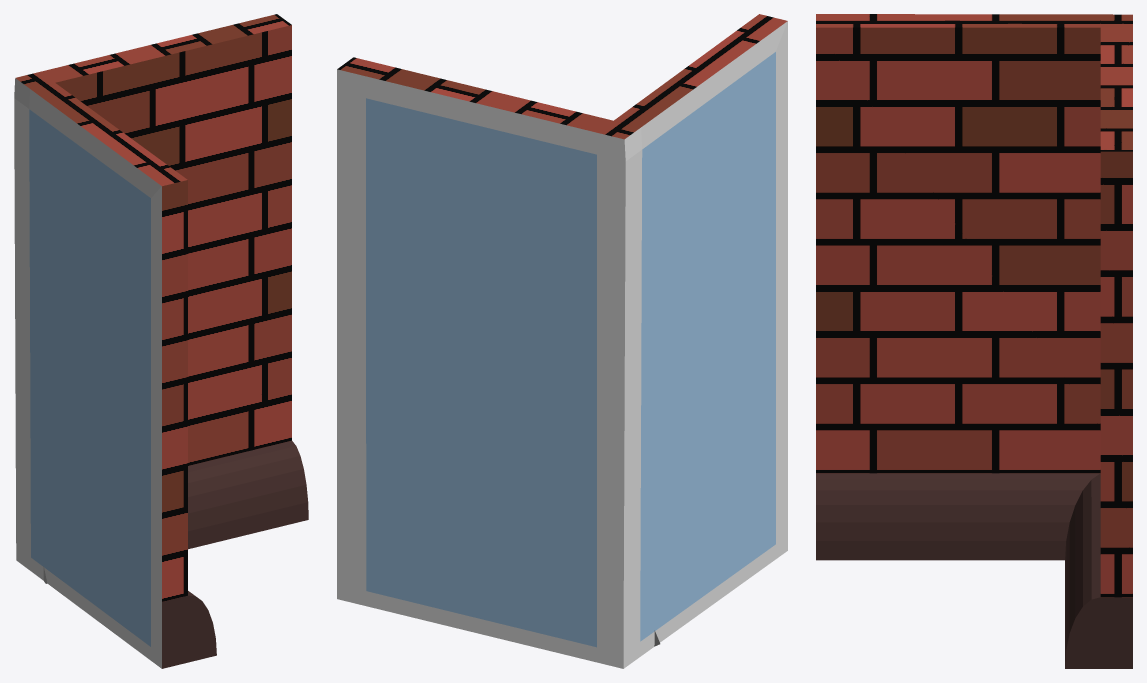
File: Corner B.fbx
3 views of the same model, side by side, from view 1: azimuth 30°, elevation 25°; view 2: azimuth 150°, elevation 25°; view 3: azimuth 270°, elevation 25° (orthographic). The views are drawn at different scales.
Visible parts, largest first — view 1: Corner B; view 2: Corner B; view 3: Corner B.
Boxes of the visible parts, x1=… form: Corner B: x1=14, y1=14, x2=308, y2=668; Corner B: x1=337, y1=14, x2=787, y2=668; Corner B: x1=816, y1=14, x2=1132, y2=668.
Bounding box in the file's own units: 411 × 721 × 400.
